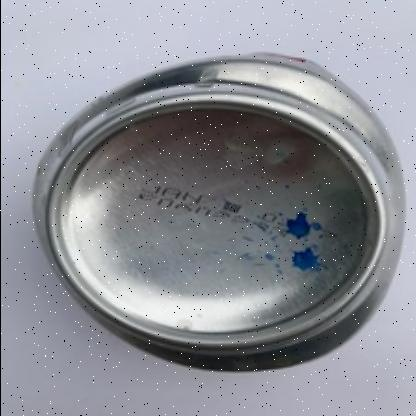Can: (32, 52, 406, 359)
